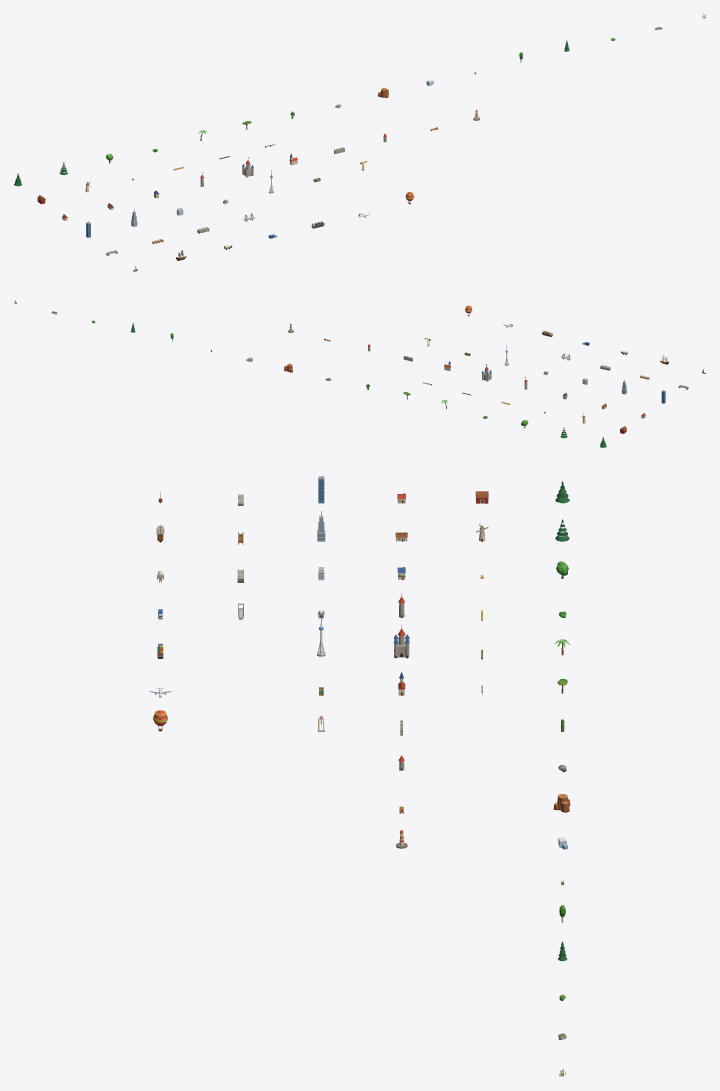
Rendered from assets_lod0.glb.
3 views of the same model, one above another, from view 1: azimuth 30°, elevation 25°; view 2: azimuth 150°, elevation 25°; view 3: azimuth 270°, elevation 25° (orthographic). The views are drawn at different scales.
Size of the model in its own units: 68.18 by 2.23 by 20.95.
